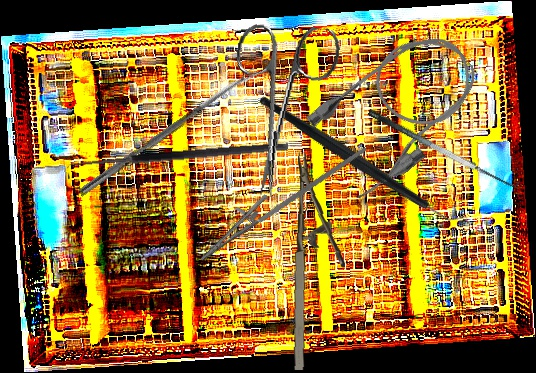Cannula: (297, 15, 499, 207)
Chopper: (257, 41, 470, 278)
Hook Surgical: (66, 140, 290, 181)
Iris Scissors: (217, 17, 343, 204)
Needle Holder: (189, 116, 368, 281), (287, 151, 351, 373)
Spatula Surgical: (367, 96, 523, 196)
Surgical Spoon: (77, 67, 259, 198)
